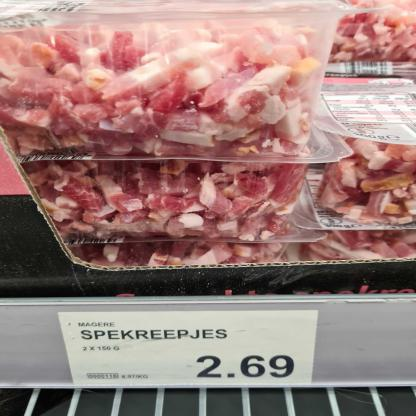prtg: (58, 311, 319, 387)
